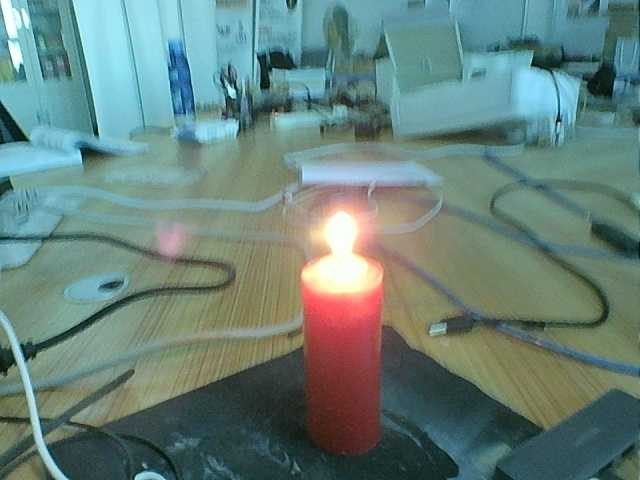candle: (288, 282, 394, 457)
fire: (308, 209, 375, 283)
